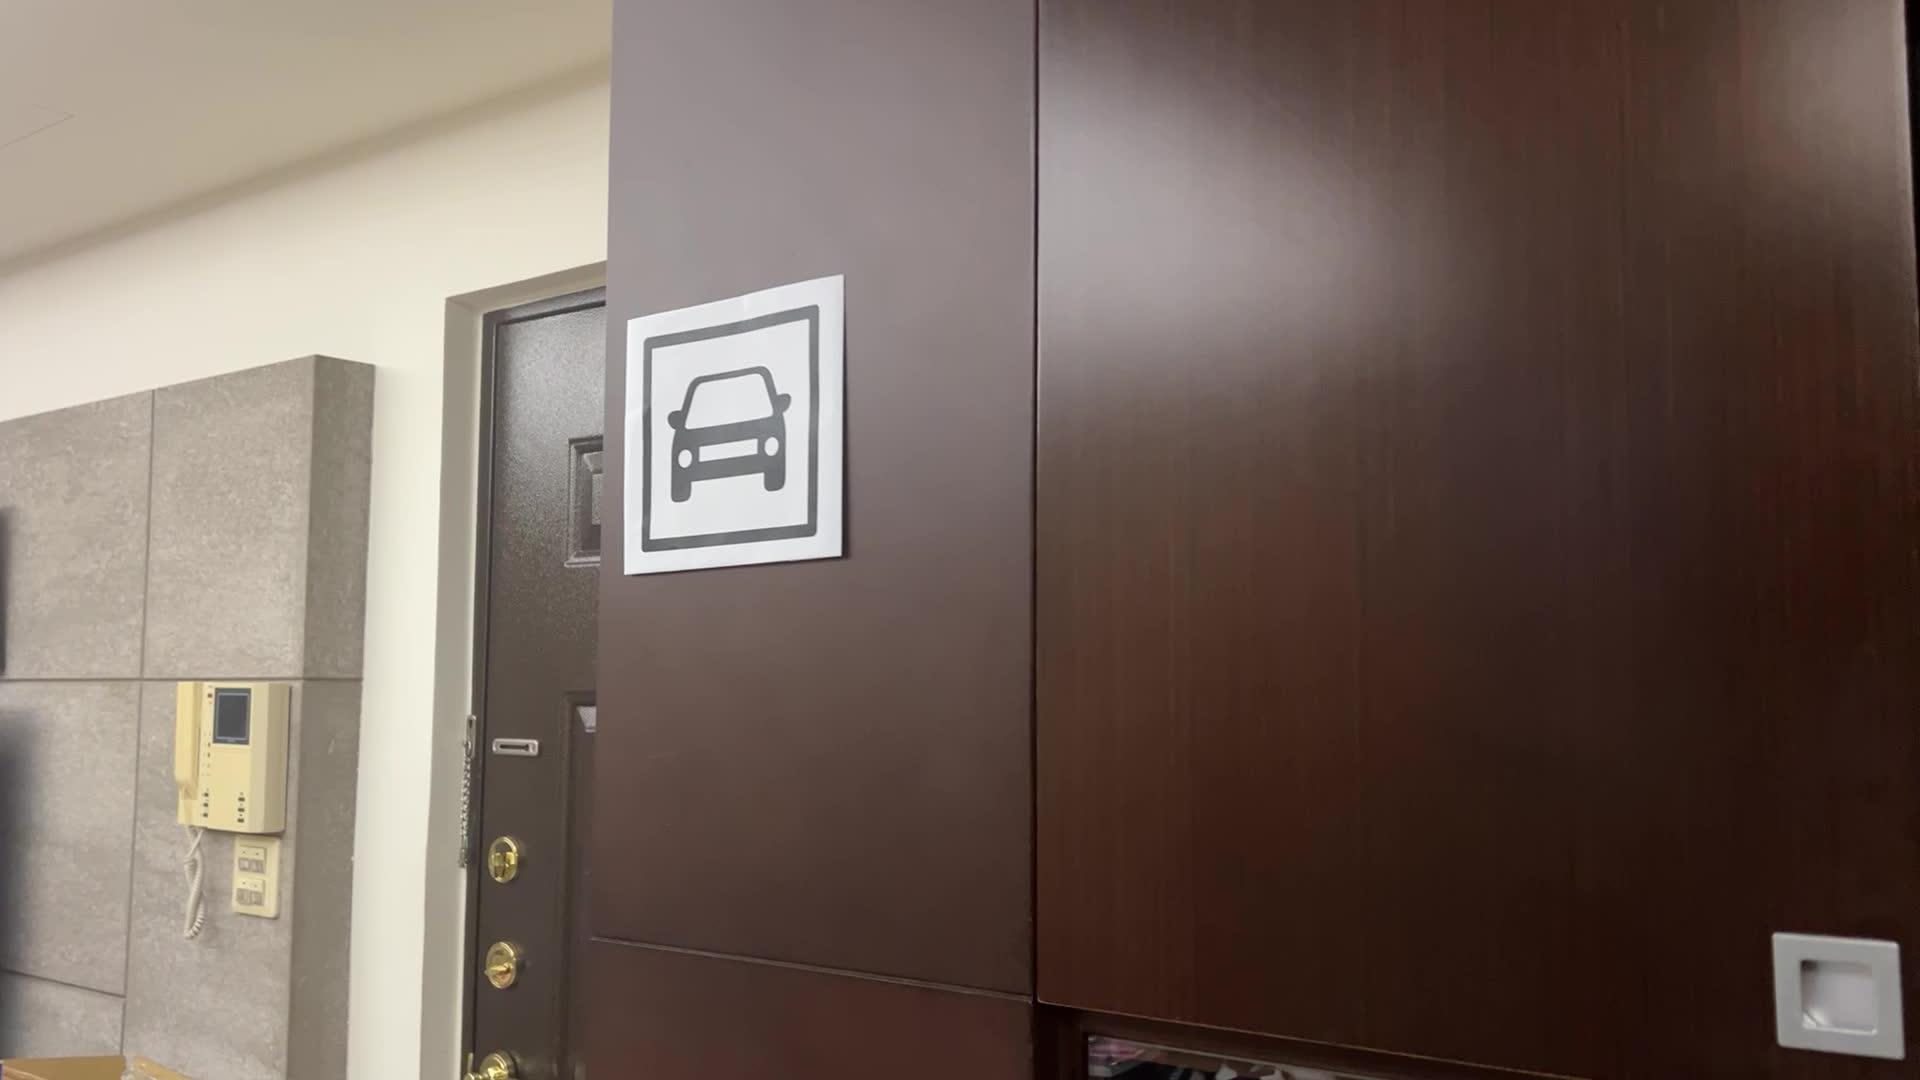car_img: (634, 297, 824, 562)
